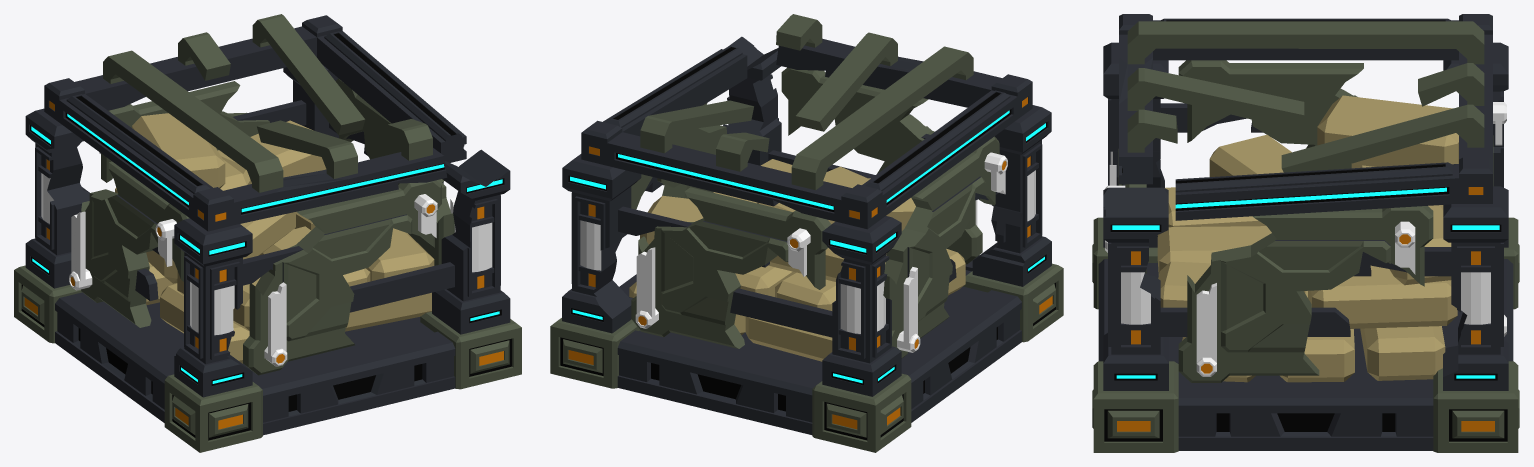
Rendered from SM_Military_Wall_Destroyed_T3.fbx.
3 renders of one model, left to right at view 1: azimuth 30°, elevation 25°; view 2: azimuth 150°, elevation 25°; view 3: azimuth 270°, elevation 25°, orthographic. The views are drawn at different scales.
Parts seen in each view (by area): view 1: SM_Military_Wall_Destroyed_T3; view 2: SM_Military_Wall_Destroyed_T3; view 3: SM_Military_Wall_Destroyed_T3.
Boxes of the visible parts, x1,y1,x2,y2 form: SM_Military_Wall_Destroyed_T3: (14,14,521,452); SM_Military_Wall_Destroyed_T3: (550,14,1063,452); SM_Military_Wall_Destroyed_T3: (1092,14,1519,452).
Size of the model in its own units: 101 by 76.23 by 101.
